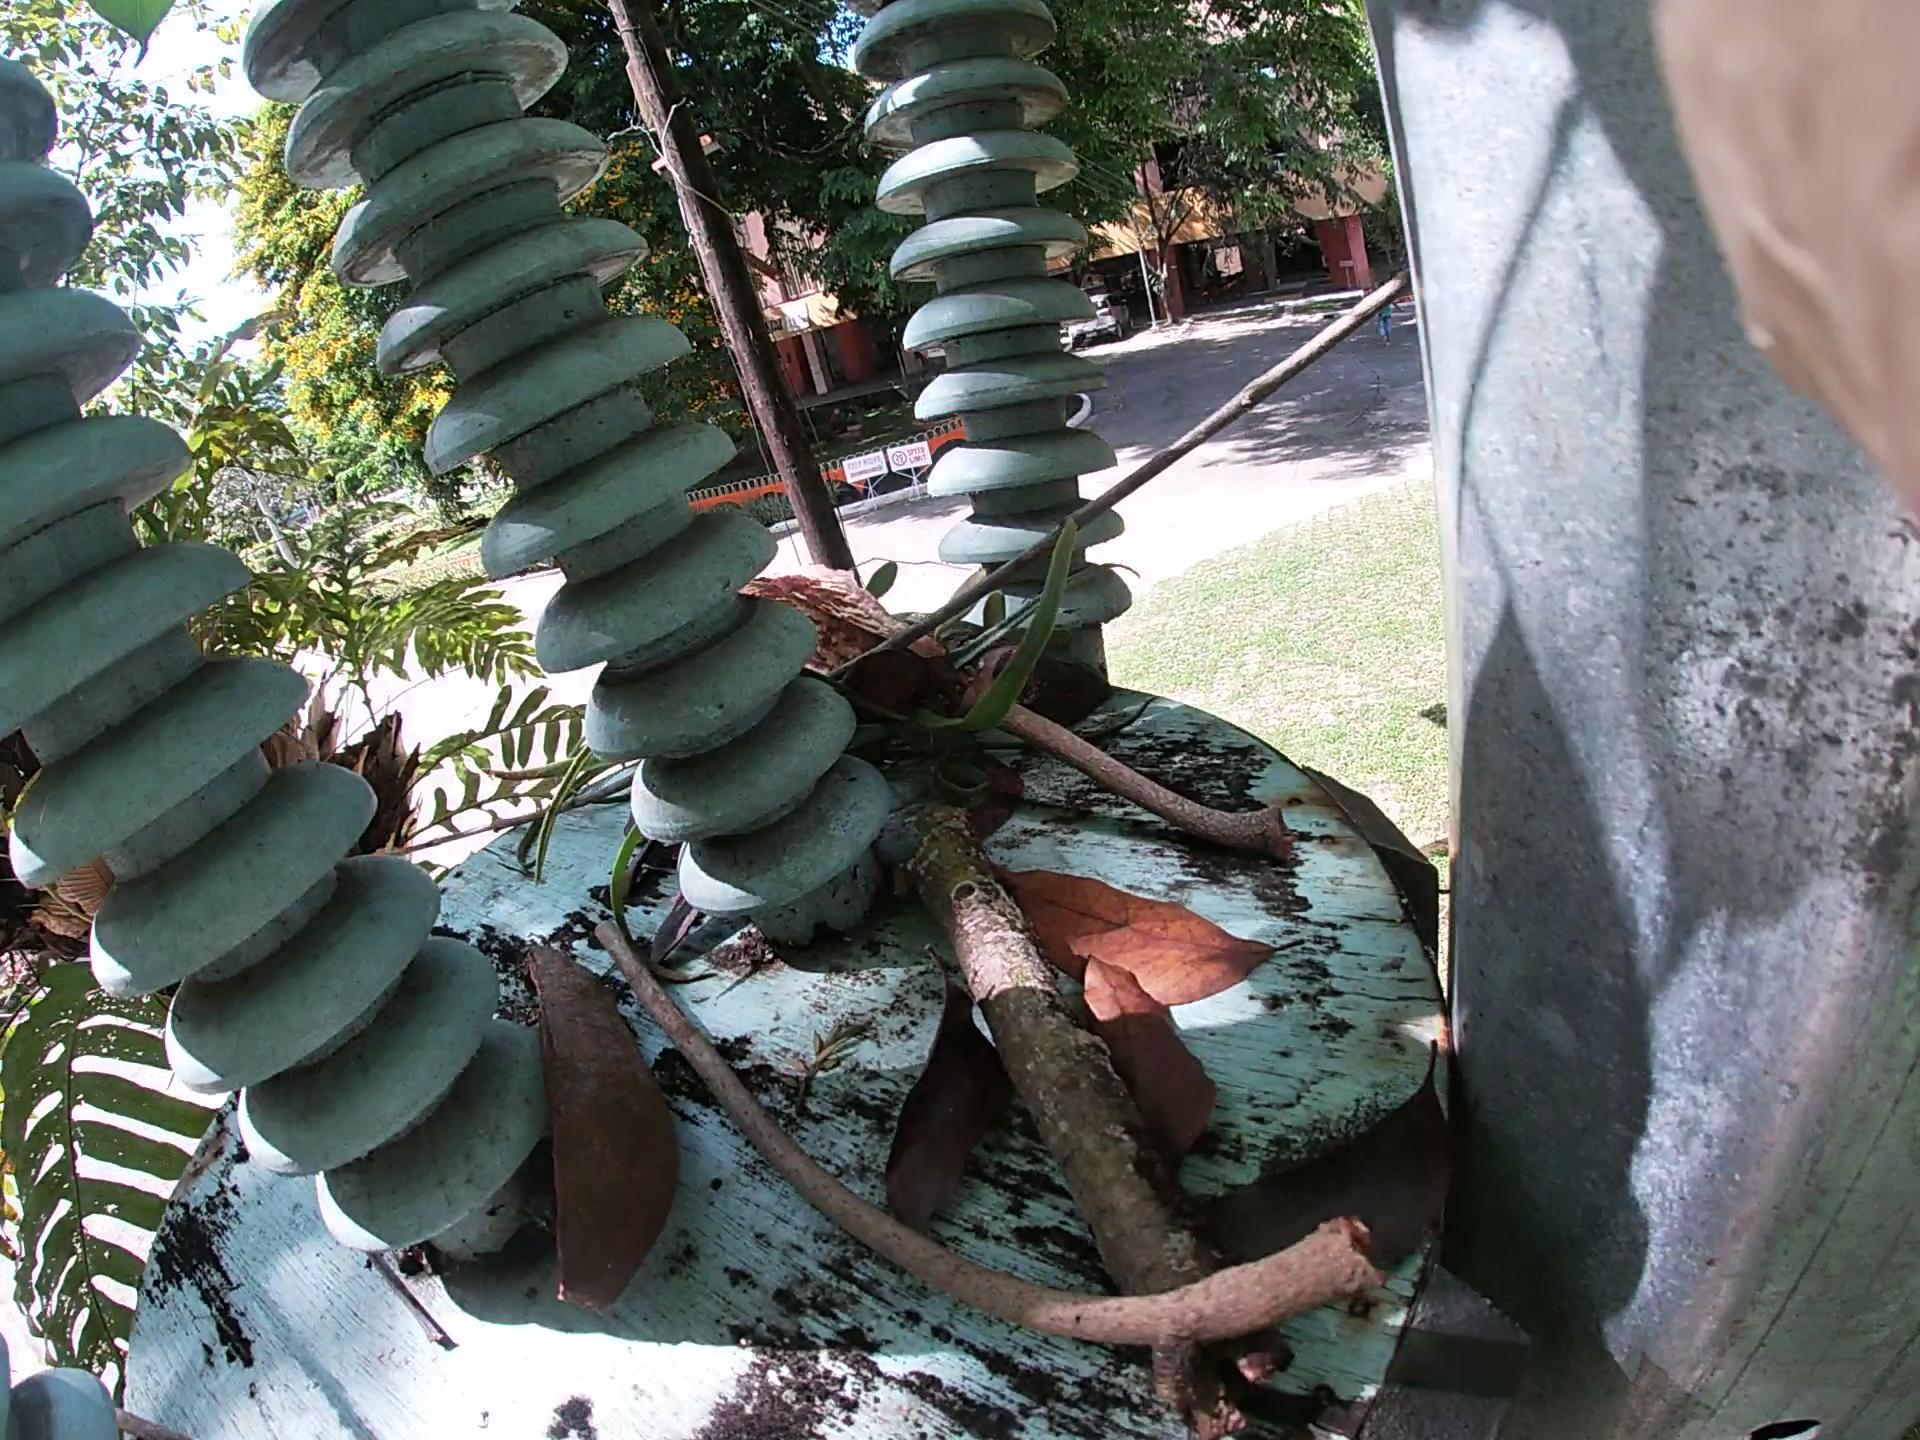leaf: (915, 846, 1365, 1212)
tree branch: (750, 219, 1420, 720), (593, 930, 1342, 1321), (688, 625, 1284, 882)
